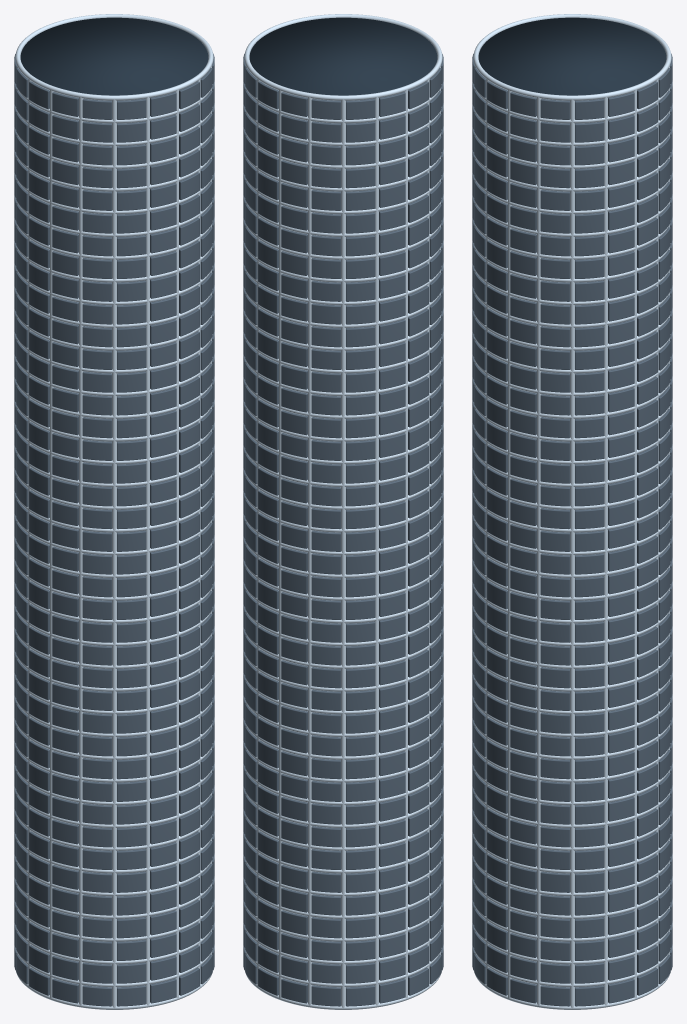
File: SciFiEnergyColumn.fbx
The picture shows the model from 3 angles, left to right: view 1: azimuth 30°, elevation 25°; view 2: azimuth 150°, elevation 25°; view 3: azimuth 270°, elevation 25°; orthographic projection.
Visible parts, largest first — view 1: Armor Plates, Central Energy Housing, Glass_Vertical_13, Glass_Vertical_14, Glass_Vertical_12, Glass_Vertical_15, Glass_Vertical_11, Glass_Horizontal_41, Glass_Vertical_16, Glass_Vertical_10, Glass_Horizontal_01, Glass_Horizontal_32 (+38 smaller); view 2: Armor Plates, Central Energy Housing, Glass_Vertical_07, Glass_Vertical_06, Glass_Vertical_08, Glass_Vertical_05, Glass_Vertical_09, Glass_Horizontal_41, Glass_Vertical_04, Glass_Vertical_10, Glass_Horizontal_01, Glass_Horizontal_32 (+38 smaller); view 3: Armor Plates, Central Energy Housing, Glass_Vertical_01, Glass_Vertical_02, Glass_Vertical_18, Glass_Vertical_03, Glass_Vertical_17, Glass_Horizontal_41, Glass_Vertical_04, Glass_Vertical_16, Glass_Horizontal_32, Glass_Horizontal_06 (+38 smaller).
Part boxes in pixels (bbox=[...]): Armor Plates: bbox=[14, 54, 214, 1006]; Central Energy Housing: bbox=[20, 17, 208, 95]; Glass_Vertical_13: bbox=[112, 99, 116, 1008]; Glass_Vertical_14: bbox=[145, 96, 149, 1005]; Glass_Vertical_12: bbox=[79, 97, 83, 1005]; Glass_Vertical_15: bbox=[175, 89, 178, 998]; Glass_Vertical_11: bbox=[50, 89, 53, 998]; Glass_Horizontal_41: bbox=[15, 14, 213, 100]; Glass_Vertical_16: bbox=[198, 78, 200, 987]; Glass_Vertical_10: bbox=[28, 78, 30, 986]; Glass_Horizontal_01: bbox=[16, 970, 212, 1009]; Glass_Horizontal_32: bbox=[16, 266, 212, 305]; Armor Plates: bbox=[243, 54, 443, 1006]; Central Energy Housing: bbox=[249, 17, 437, 95]; Glass_Vertical_07: bbox=[341, 99, 345, 1008]; Glass_Vertical_06: bbox=[308, 96, 312, 1005]; Glass_Vertical_08: bbox=[374, 97, 378, 1005]; Glass_Vertical_05: bbox=[279, 89, 282, 998]; Glass_Vertical_09: bbox=[404, 89, 407, 998]; Glass_Horizontal_41: bbox=[244, 14, 442, 100]; Glass_Vertical_04: bbox=[257, 78, 259, 987]; Glass_Vertical_10: bbox=[427, 78, 429, 986]; Glass_Horizontal_01: bbox=[245, 970, 441, 1009]; Glass_Horizontal_32: bbox=[245, 266, 441, 305]; Armor Plates: bbox=[472, 54, 672, 1006]; Central Energy Housing: bbox=[478, 17, 666, 95]; Glass_Vertical_01: bbox=[570, 99, 574, 1008]; Glass_Vertical_02: bbox=[603, 97, 607, 1005]; Glass_Vertical_18: bbox=[537, 97, 541, 1005]; Glass_Vertical_03: bbox=[633, 89, 636, 998]; Glass_Vertical_17: bbox=[508, 89, 511, 998]; Glass_Horizontal_41: bbox=[473, 14, 671, 100]; Glass_Vertical_04: bbox=[656, 78, 658, 987]; Glass_Vertical_16: bbox=[486, 78, 488, 987]; Glass_Horizontal_32: bbox=[474, 266, 670, 305]; Glass_Horizontal_06: bbox=[474, 857, 670, 896].
Size of the model in its own units: 999 by 5026 by 1000.
